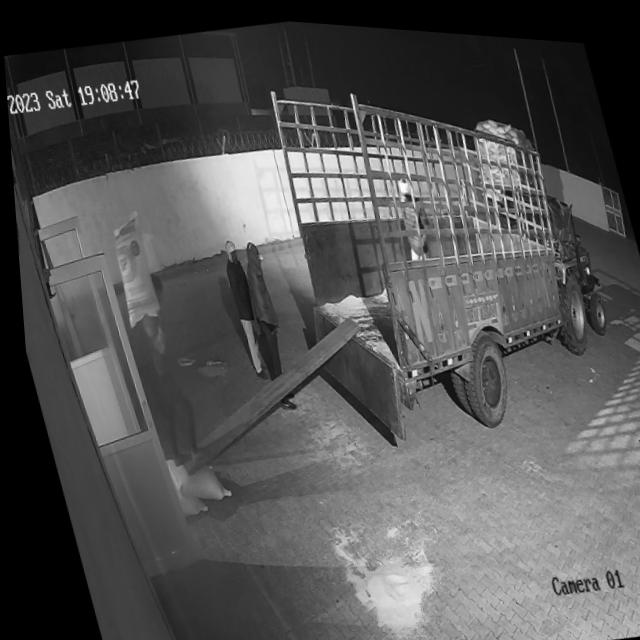sack: (98, 209, 162, 327), (159, 447, 226, 506)
